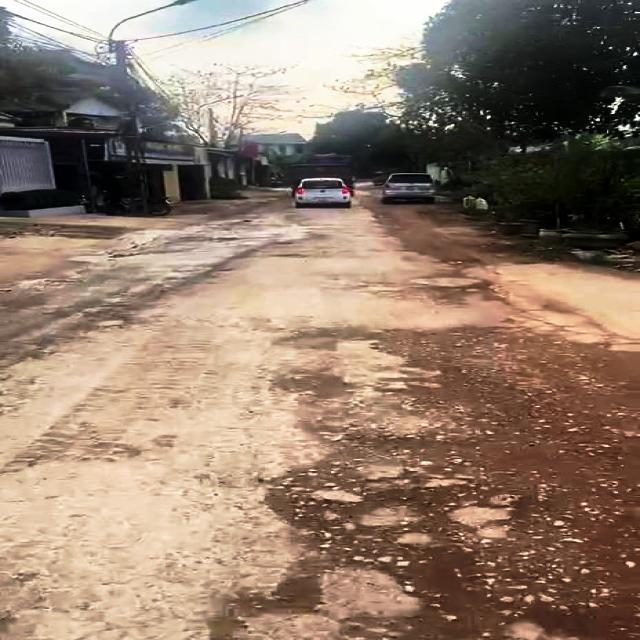pothole: (215, 531, 532, 640), (261, 448, 513, 548), (272, 367, 352, 405)
